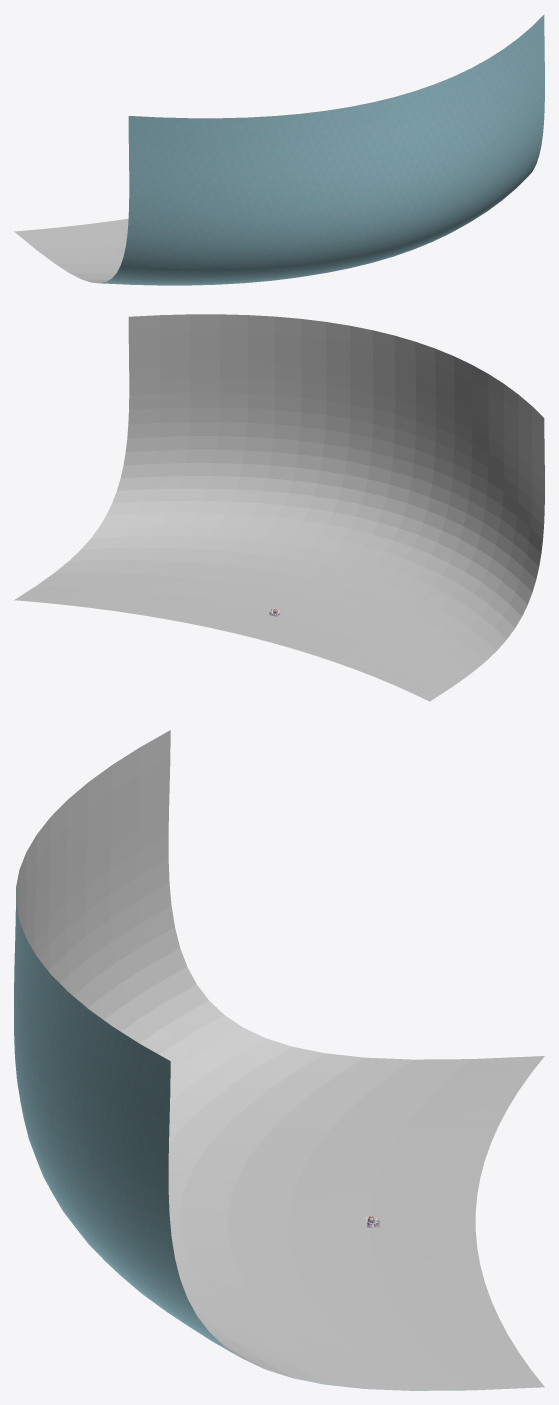
File: pref_lobby_lottery01_lv3.fbx
3 views of the same model, one above another, from view 1: azimuth 30°, elevation 25°; view 2: azimuth 150°, elevation 25°; view 3: azimuth 270°, elevation 25° (orthographic). The views are drawn at different scales.
Visible parts, largest first — view 1: pref_sm_choujiangjiemian_bj03_lv3, pref_sm_choujiangjiemian_bj03_lv3 (1); view 2: pref_sm_choujiangjiemian_bj03_lv3 (1); view 3: pref_sm_choujiangjiemian_bj03_lv3 (1), pref_sm_choujiangjiemian_bj03_lv3.
Boxes of the visible parts, x1,y1,x2,y2 form: pref_sm_choujiangjiemian_bj03_lv3: [70, 15, 544, 285]; pref_sm_choujiangjiemian_bj03_lv3 (1): [14, 15, 543, 283]; pref_sm_choujiangjiemian_bj03_lv3 (1): [14, 314, 544, 701]; pref_sm_choujiangjiemian_bj03_lv3 (1): [16, 730, 544, 1390]; pref_sm_choujiangjiemian_bj03_lv3: [14, 782, 540, 1390].
Bounding box in the file's own units: 241 × 112 × 163.
Materials: 19 (4 with a texture image).
